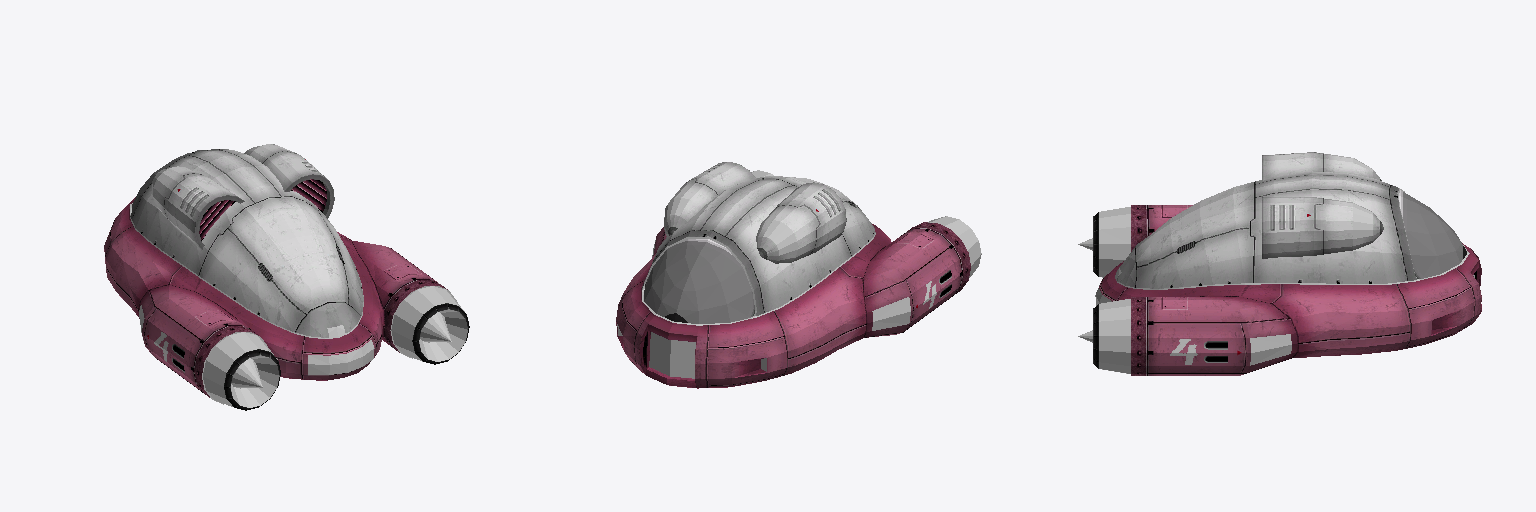
3 views of the same model, side by side, from view 1: azimuth 30°, elevation 25°; view 2: azimuth 150°, elevation 25°; view 3: azimuth 270°, elevation 25° (orthographic).
Visible parts, largest first — view 1: 37_peacerabbit_a; view 2: 37_peacerabbit_a; view 3: 37_peacerabbit_a.
Part boxes in pixels (x1,y1,x2,y2): 37_peacerabbit_a: (104,144,469,410); 37_peacerabbit_a: (616,162,981,388); 37_peacerabbit_a: (1078,152,1481,375).
Bounding box in the file's own units: 2.43 × 1.41 × 3.31.
Materials: 21 (7 with a texture image).